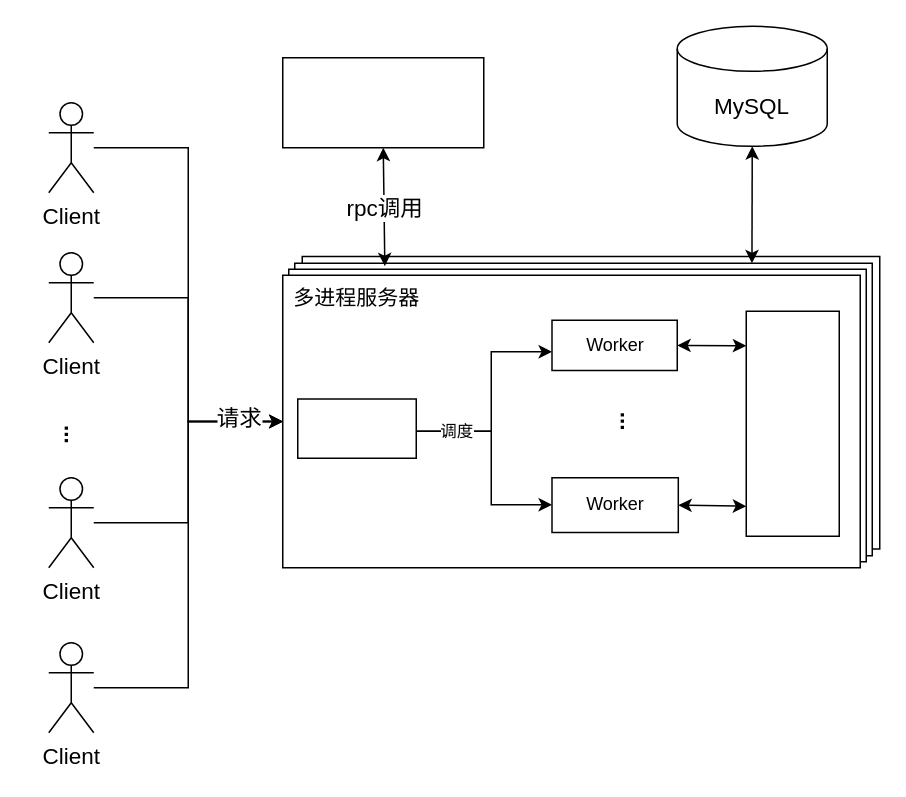
Image size: 906x797. Some labels were removed from this diagram. The centre of each missing label's shape, as x and y in pixels:
Acceptor: point 356,428
单线程缓存服务: point 382,102
本地缓存: point 792,423
